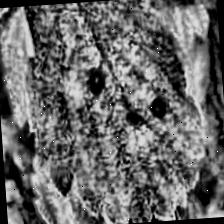Leaf Spot: (15, 0, 212, 224)
